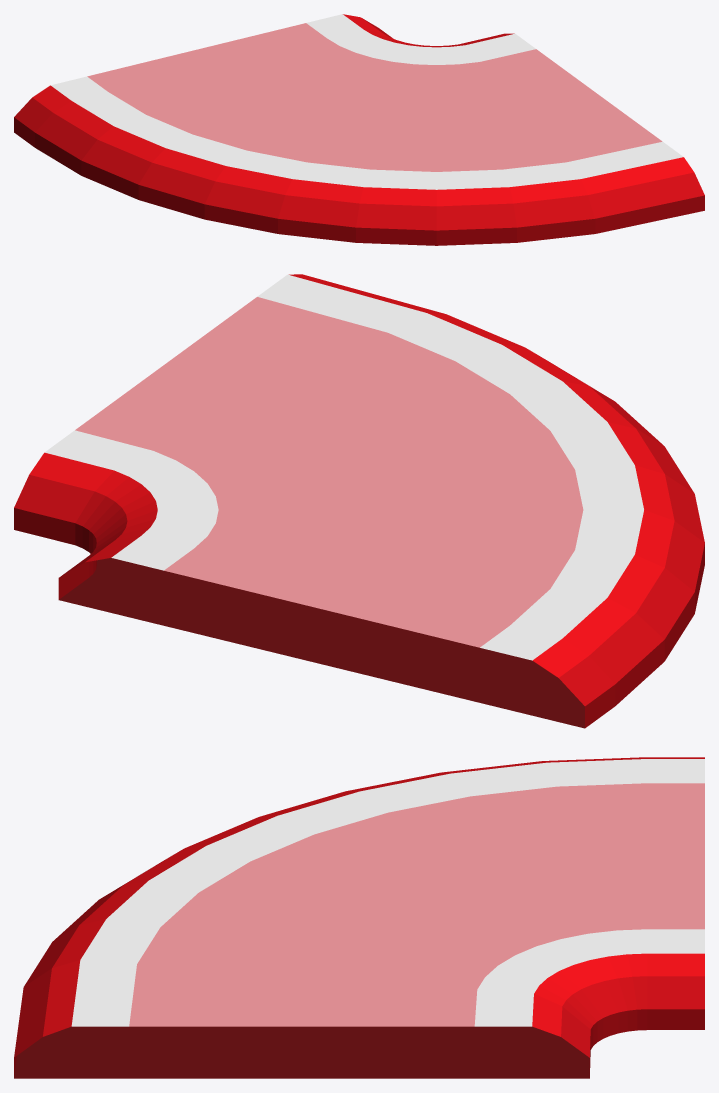
Rendered from RoadTurn.fbx.
The picture shows the model from 3 angles, top to bottom: view 1: azimuth 30°, elevation 25°; view 2: azimuth 150°, elevation 25°; view 3: azimuth 270°, elevation 25°; orthographic projection. The views are drawn at different scales.
Visible parts, largest first — view 1: RoadTurn; view 2: RoadTurn; view 3: RoadTurn.
Part boxes in pixels (bbox=[...]): RoadTurn: bbox=[14, 14, 704, 245]; RoadTurn: bbox=[14, 274, 704, 728]; RoadTurn: bbox=[14, 757, 704, 1078].
Size of the model in its own units: 12 by 1 by 12.
